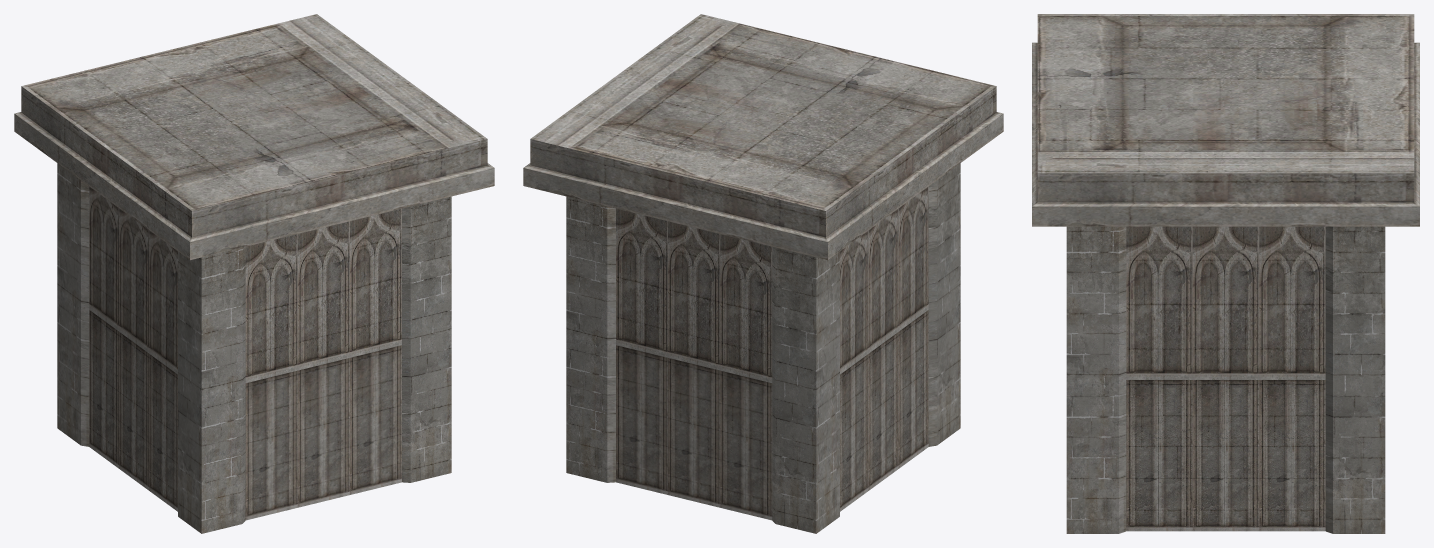
The model's file is bg_lut_lucastle_churchtower08_sm_ksh.FBX.
The picture shows the model from 3 angles, left to right: view 1: azimuth 30°, elevation 25°; view 2: azimuth 150°, elevation 25°; view 3: azimuth 270°, elevation 25°; orthographic projection. The views are drawn at different scales.
Visible parts, largest first — view 1: bg_lut_lucastle_churchtower08_sm_ksh; view 2: bg_lut_lucastle_churchtower08_sm_ksh; view 3: bg_lut_lucastle_churchtower08_sm_ksh.
Boxes of the visible parts, x1,y1,x2,y2 form: bg_lut_lucastle_churchtower08_sm_ksh: [14, 14, 494, 533]; bg_lut_lucastle_churchtower08_sm_ksh: [523, 14, 1003, 533]; bg_lut_lucastle_churchtower08_sm_ksh: [1032, 14, 1419, 533].
Size of the model in its own units: 349 by 371 by 349.
